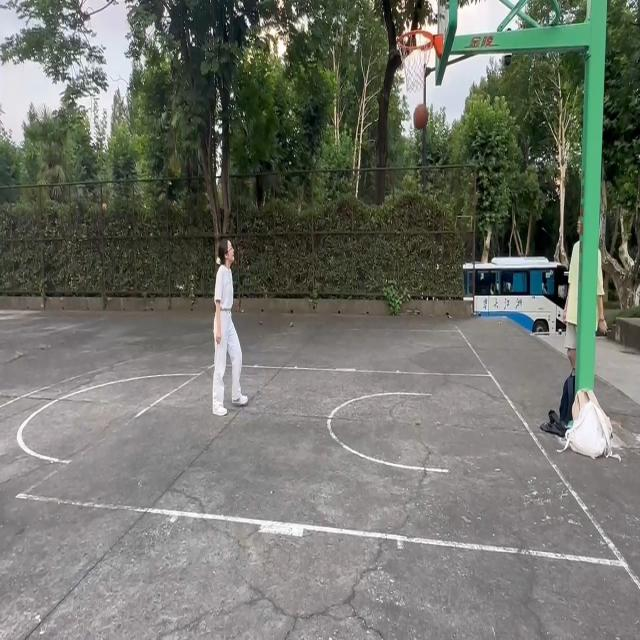basketball: (396, 25, 436, 94)
rim: (414, 103, 429, 129)
